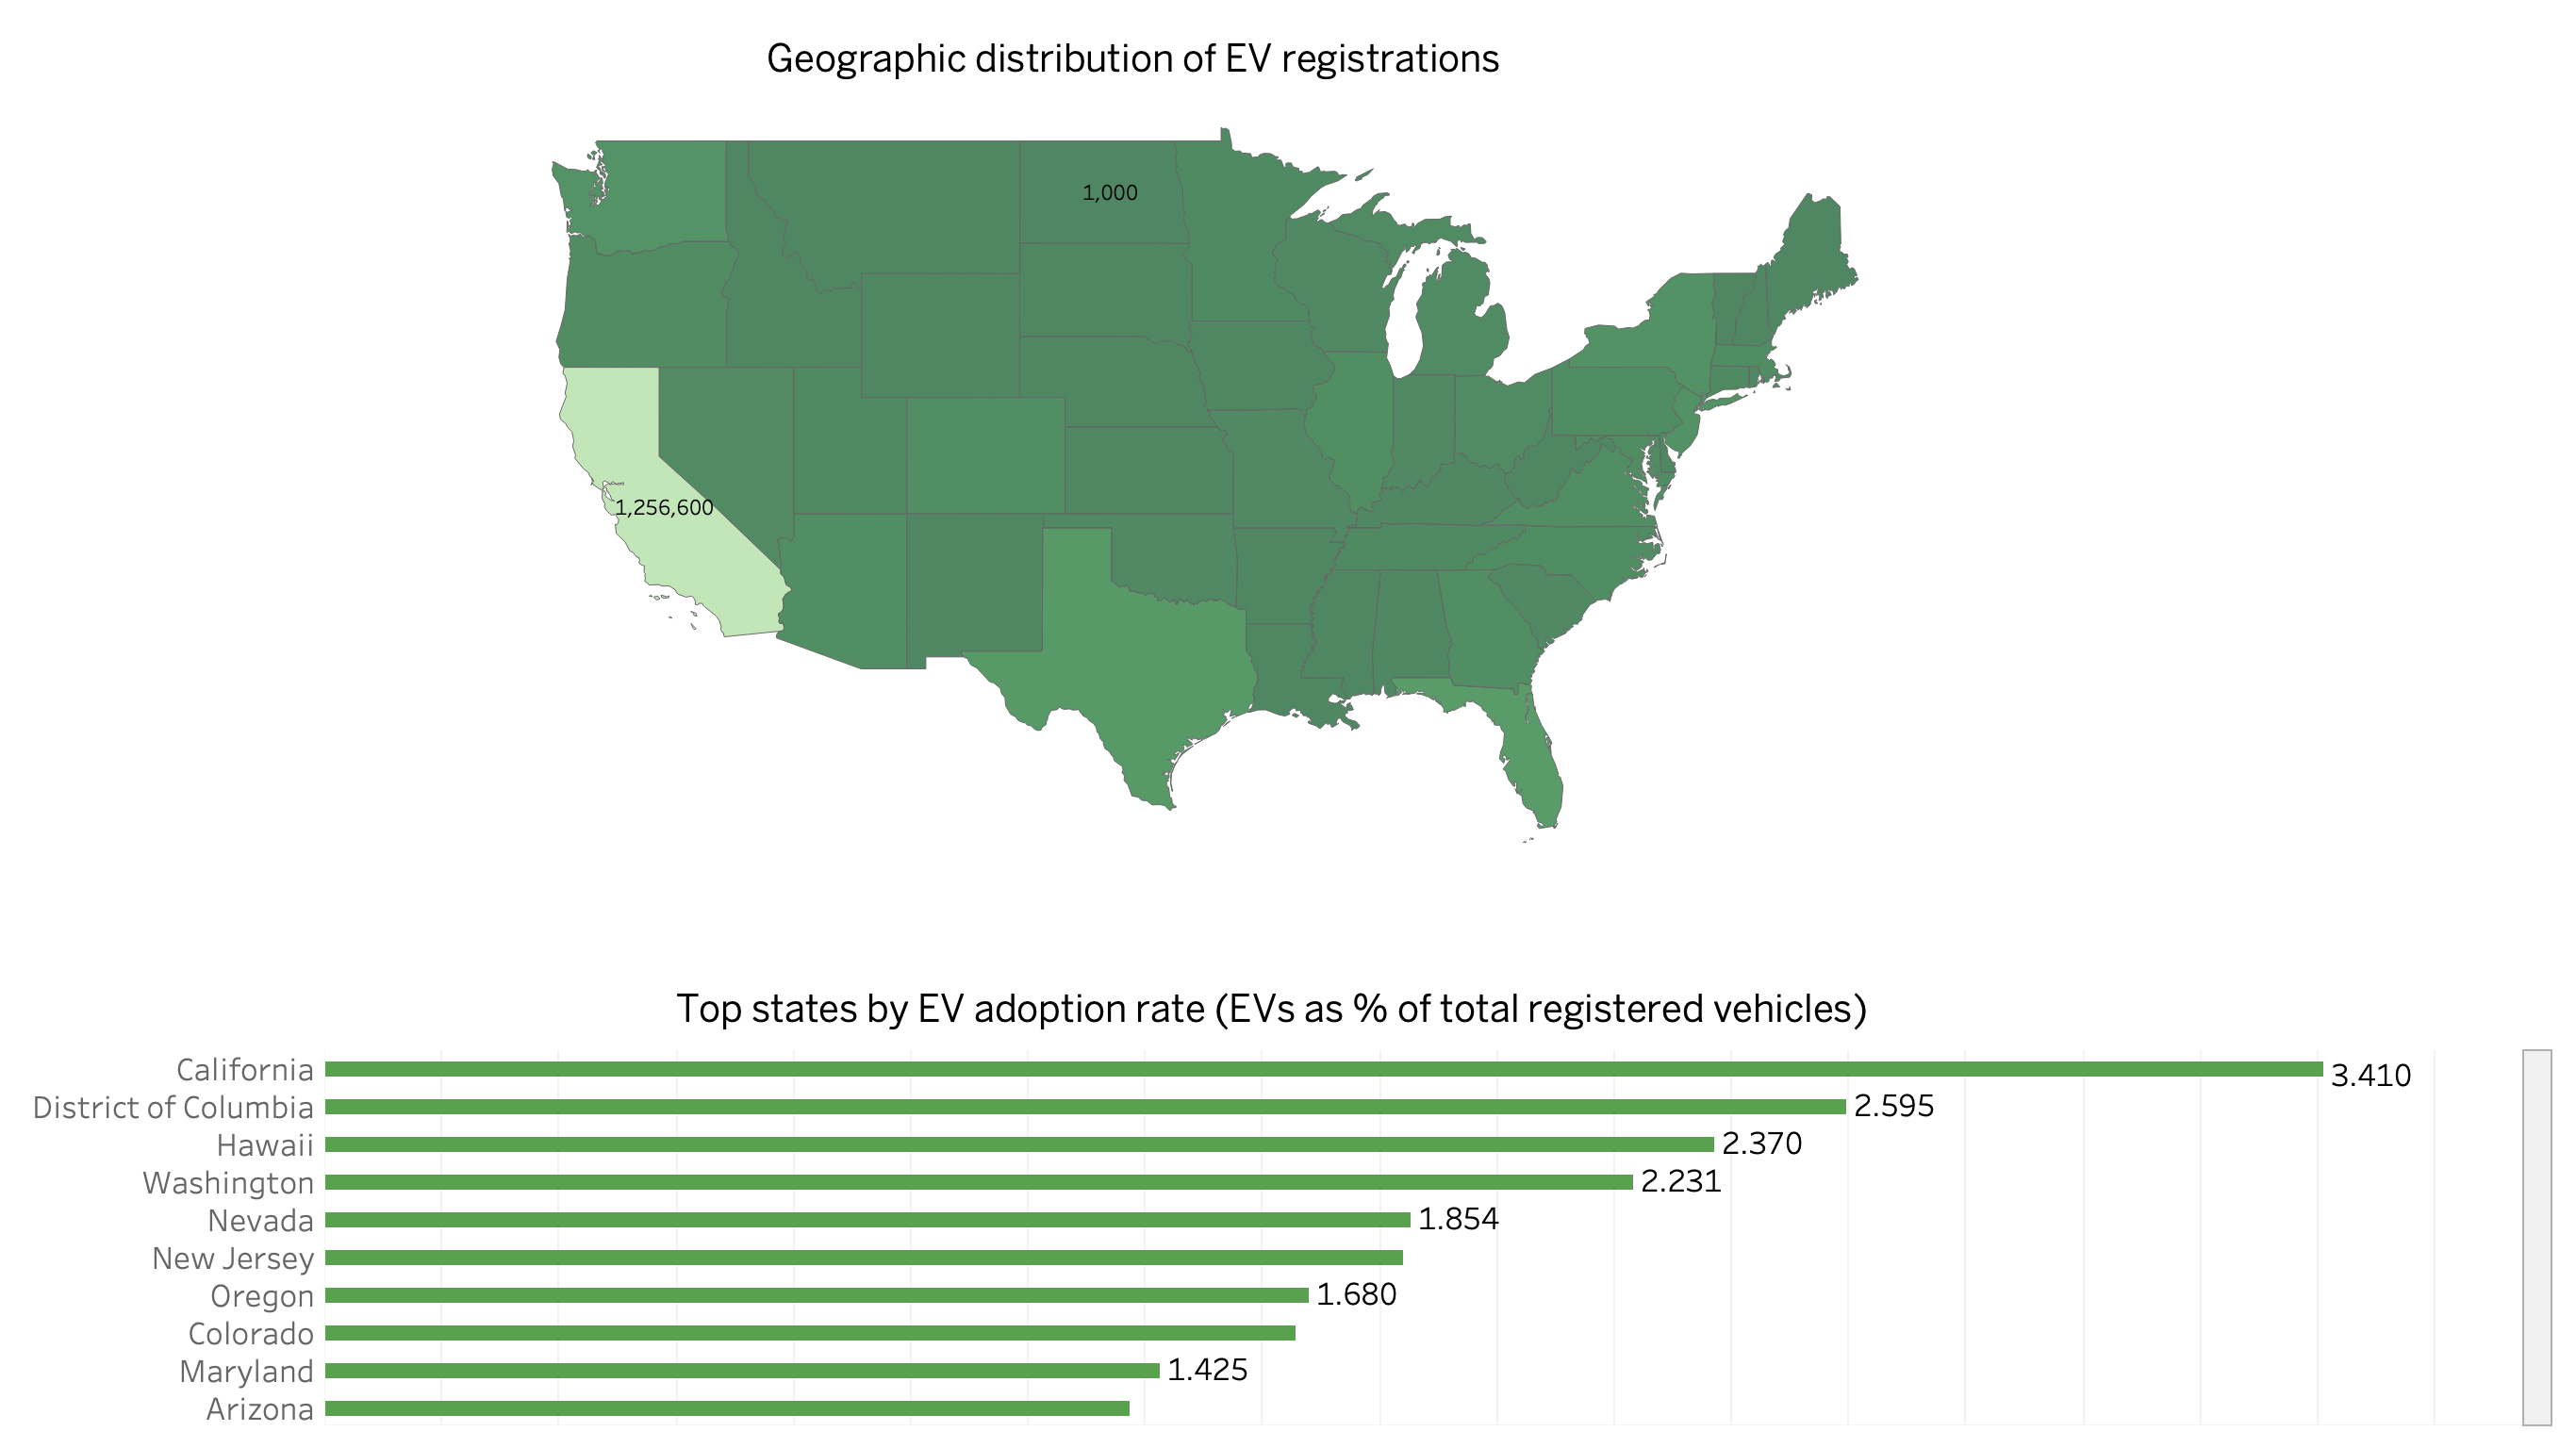

The page's visual inventory and layout, read from the dashboard file:
{"tool":"tableau","page":{"name":"Dashboard 3","canvas":[1000,1000],"units":"permille","ordinal":2},"visuals":[{"type":"worksheet","title":"Sheet 1","mark":"Multipolygon","box":[5.5,8.1,988.9,983.9]},{"type":"worksheet","title":"Sheet 2","mark":"Bar","rows":["State"],"cols":["Electric (EV)_pct"],"box":[37.3,678.4,655.6,300.4]}]}

Visuals, with their boxes on the dashboard's canvas, which has no fixed pixel size, in thousandths of its width and height (x1, y1, x2, y2). These are canvas units, not pixel positions in the 2576x1448 screenshot, which may show the page scaled, cropped or inside an application window:
"Sheet 1" worksheet (Multipolygon marks): (left=6, top=8, right=994, bottom=992)
"Sheet 2" worksheet (Bar marks): (left=37, top=678, right=693, bottom=979)
